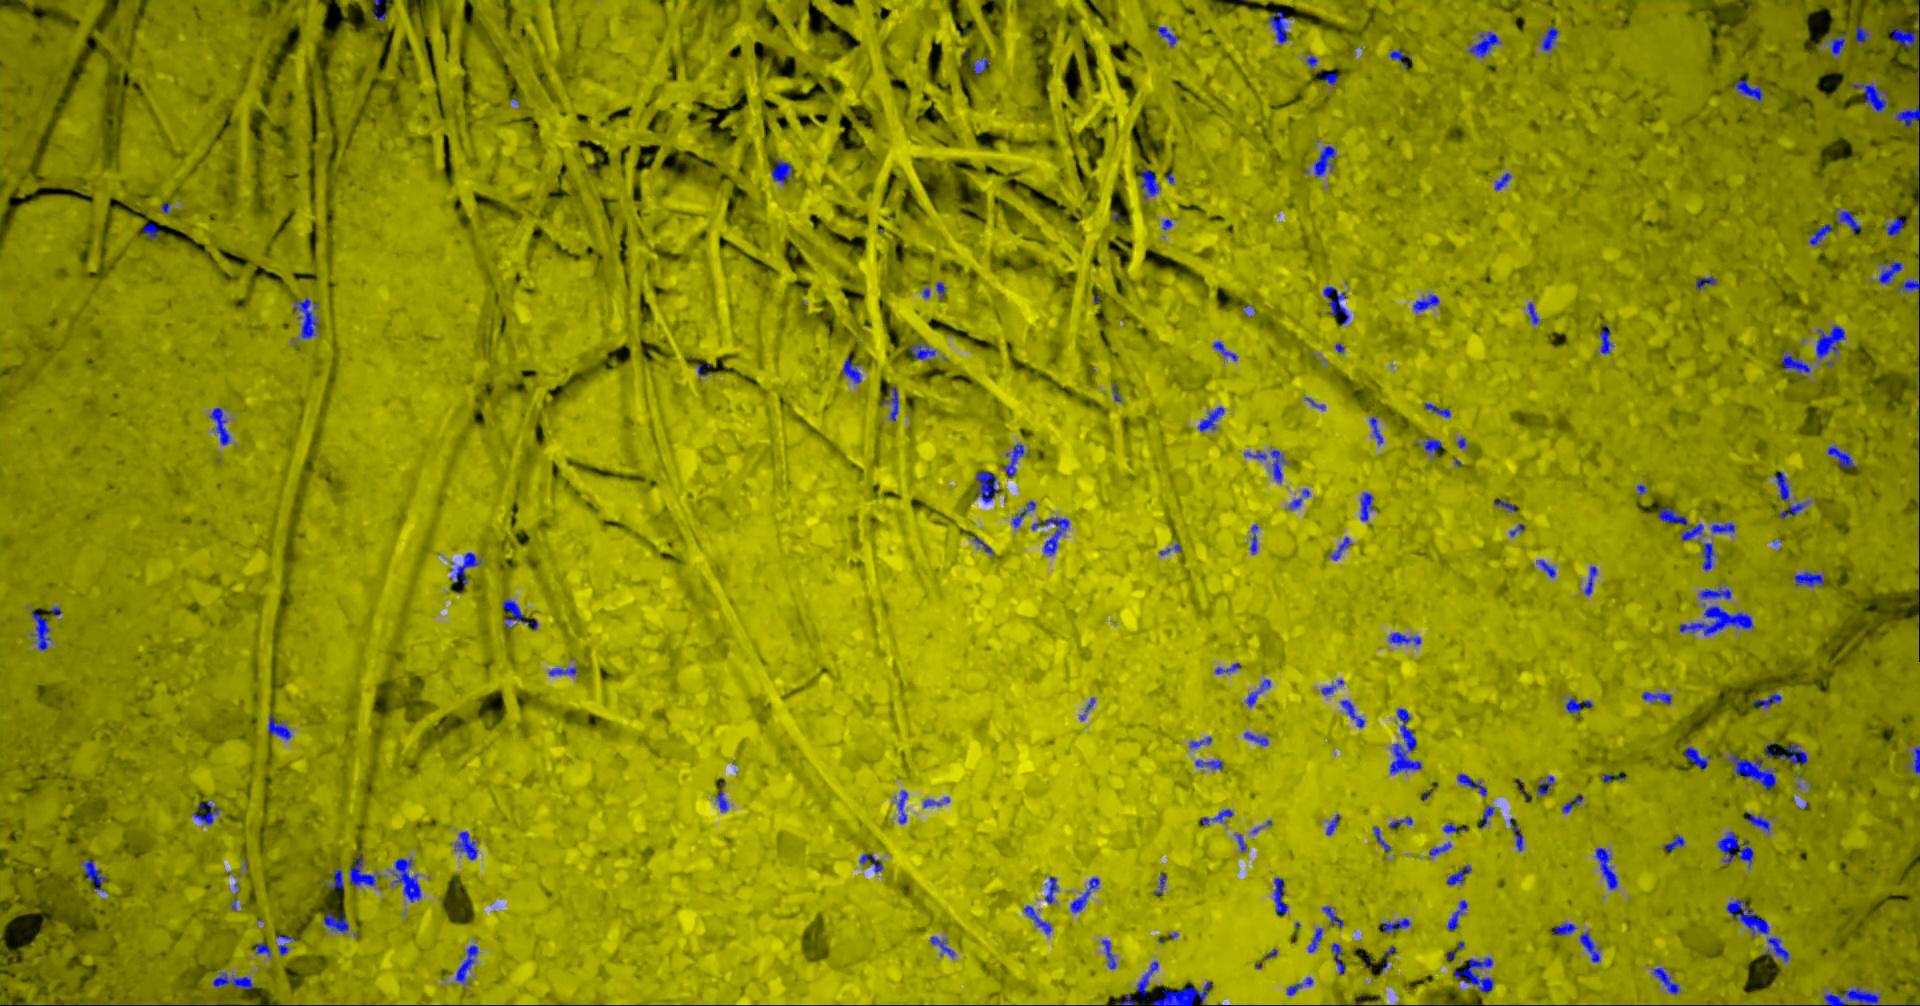ant: (1726, 899, 1789, 962), (1677, 605, 1752, 635), (1389, 708, 1421, 774), (1727, 752, 1775, 790), (1657, 506, 1703, 540), (1031, 516, 1069, 555), (1451, 956, 1493, 992), (1150, 981, 1211, 1005), (1243, 448, 1285, 481), (1717, 831, 1752, 868), (391, 857, 420, 902), (1815, 324, 1845, 359), (293, 296, 319, 338), (1823, 986, 1879, 1005), (1851, 81, 1887, 111), (502, 600, 537, 629), (1322, 286, 1349, 324), (450, 553, 480, 586), (349, 854, 380, 887), (1070, 876, 1098, 912), (1594, 847, 1617, 889), (1764, 742, 1807, 763), (455, 944, 477, 983), (1468, 30, 1501, 57), (1023, 904, 1051, 934), (30, 608, 50, 650), (81, 859, 107, 889), (1651, 967, 1679, 993), (1780, 349, 1810, 375), (1002, 443, 1023, 478), (1137, 960, 1158, 995), (210, 406, 229, 445), (212, 972, 253, 989), (1338, 699, 1364, 727), (1732, 79, 1763, 102), (975, 471, 998, 502), (1313, 145, 1335, 177), (1138, 168, 1159, 199), (1457, 774, 1486, 796), (879, 386, 898, 420), (1011, 500, 1035, 527), (1246, 680, 1270, 706), (1827, 445, 1855, 467), (455, 831, 477, 859), (1269, 10, 1288, 43), (1578, 931, 1599, 962), (1834, 208, 1859, 232), (1197, 406, 1223, 431), (1684, 746, 1710, 768), (192, 801, 218, 824), (1890, 27, 1919, 47), (267, 715, 291, 739), (1272, 876, 1288, 915), (323, 911, 348, 934), (1808, 224, 1835, 245), (841, 356, 861, 384), (1564, 697, 1592, 718), (1448, 901, 1467, 930), (1895, 104, 1919, 127), (1878, 260, 1902, 283), (771, 158, 792, 183), (1743, 810, 1769, 832), (1200, 809, 1233, 826), (930, 936, 954, 958), (1359, 492, 1377, 521), (1779, 500, 1808, 518), (1412, 293, 1439, 312), (1156, 25, 1178, 47), (1330, 536, 1350, 560), (1446, 865, 1470, 885), (1211, 340, 1237, 359), (1371, 826, 1390, 851), (1286, 976, 1312, 995), (1509, 817, 1523, 851), (908, 342, 935, 359), (1322, 906, 1343, 927), (1377, 918, 1410, 932), (858, 854, 883, 873), (1774, 471, 1789, 500), (1331, 942, 1345, 974), (1884, 217, 1907, 236), (1793, 572, 1823, 586), (1542, 25, 1558, 51), (1389, 50, 1411, 69), (1561, 793, 1582, 812), (1583, 565, 1597, 594), (1752, 694, 1782, 708), (1101, 939, 1115, 968), (325, 868, 343, 890), (1829, 32, 1845, 56), (1368, 417, 1382, 445), (973, 535, 993, 554), (1243, 730, 1269, 746), (1423, 403, 1450, 417), (1044, 876, 1058, 903), (1599, 324, 1611, 353), (715, 781, 728, 810), (1307, 927, 1322, 951), (1698, 588, 1730, 600), (1388, 633, 1420, 644), (1537, 775, 1553, 796), (1702, 542, 1714, 570), (1641, 691, 1671, 702), (1479, 805, 1495, 828), (971, 56, 990, 74), (1422, 436, 1441, 453), (1537, 559, 1556, 577), (897, 790, 907, 823), (1663, 835, 1684, 851), (1317, 70, 1338, 85), (1429, 841, 1451, 855), (1495, 171, 1511, 191), (372, 0, 387, 20), (1324, 814, 1340, 835), (1493, 498, 1517, 511), (1388, 815, 1412, 828), (1214, 662, 1239, 673), (1153, 873, 1166, 895), (1550, 922, 1576, 934), (1695, 276, 1716, 290), (1710, 522, 1735, 533), (922, 796, 949, 807), (1855, 24, 1869, 43), (1189, 735, 1211, 747), (1250, 525, 1258, 554), (1194, 760, 1223, 768), (549, 666, 577, 674), (1910, 746, 1919, 774), (1528, 302, 1539, 324), (142, 224, 157, 239), (1898, 279, 1919, 291), (1443, 822, 1465, 832), (1234, 833, 1246, 852), (255, 942, 270, 956), (935, 281, 945, 298), (1120, 993, 1135, 1005)
